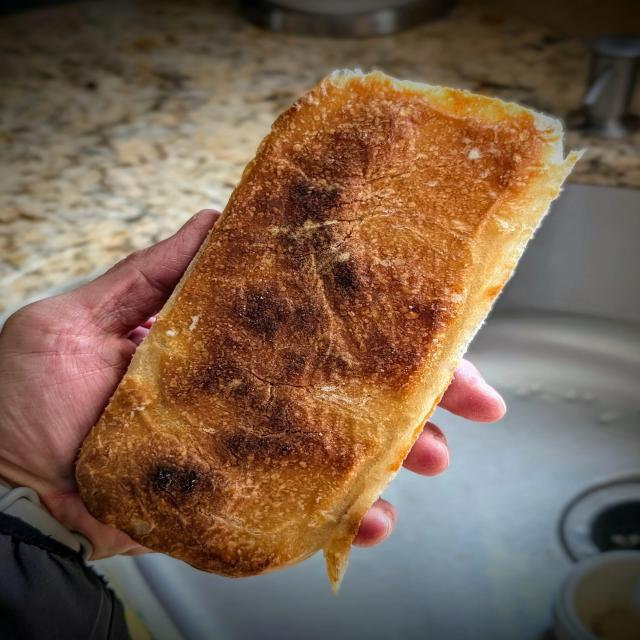Ciabatta: (77, 71, 578, 590)
